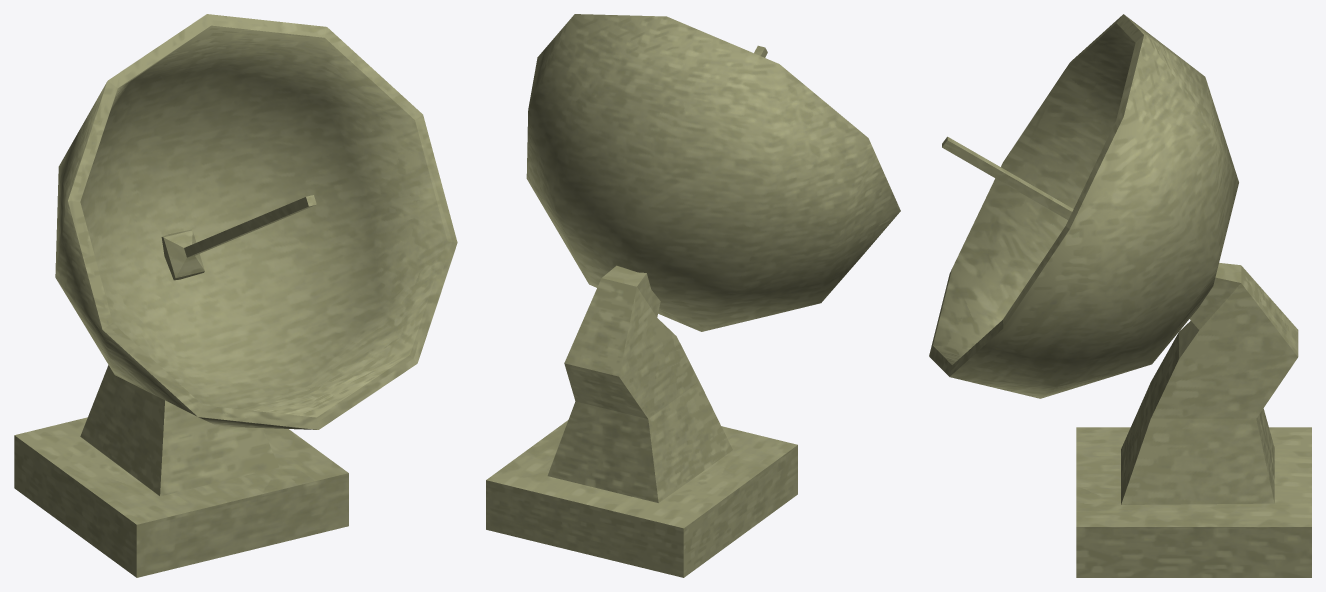
The model's file is GroundSatellite_brokenedges.obj.
3 views of the same model, side by side, from view 1: azimuth 30°, elevation 25°; view 2: azimuth 150°, elevation 25°; view 3: azimuth 270°, elevation 25° (orthographic). The views are drawn at different scales.
Visible parts, largest first — view 1: Satellite_Cube.001; view 2: Satellite_Cube.001; view 3: Satellite_Cube.001.
Boxes of the visible parts, left/top/right/bottom form: Satellite_Cube.001: left=14, top=14, right=457, bottom=577; Satellite_Cube.001: left=486, top=14, right=900, bottom=577; Satellite_Cube.001: left=929, top=14, right=1311, bottom=577.
Size of the model in its own units: 0.9643 by 1.33 by 0.9361.
1 material, 1 textured.
